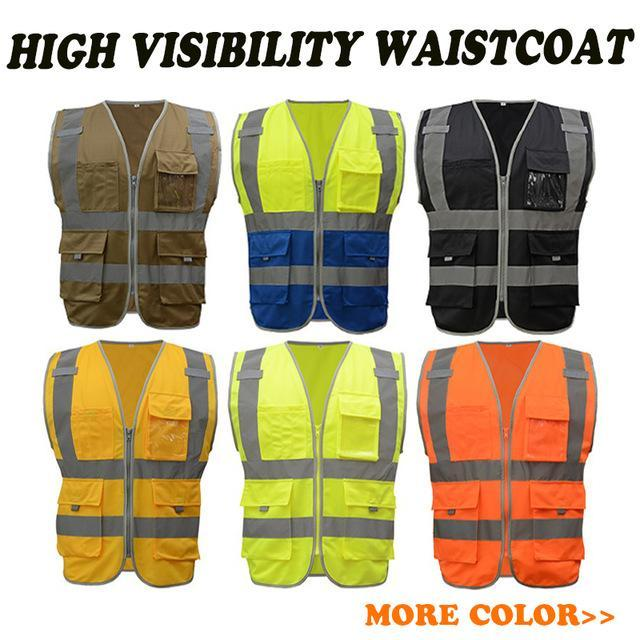safety_helmet: (228, 342, 407, 593), (418, 344, 596, 588), (43, 345, 217, 592), (413, 96, 589, 327), (49, 100, 217, 333), (230, 99, 397, 332)
